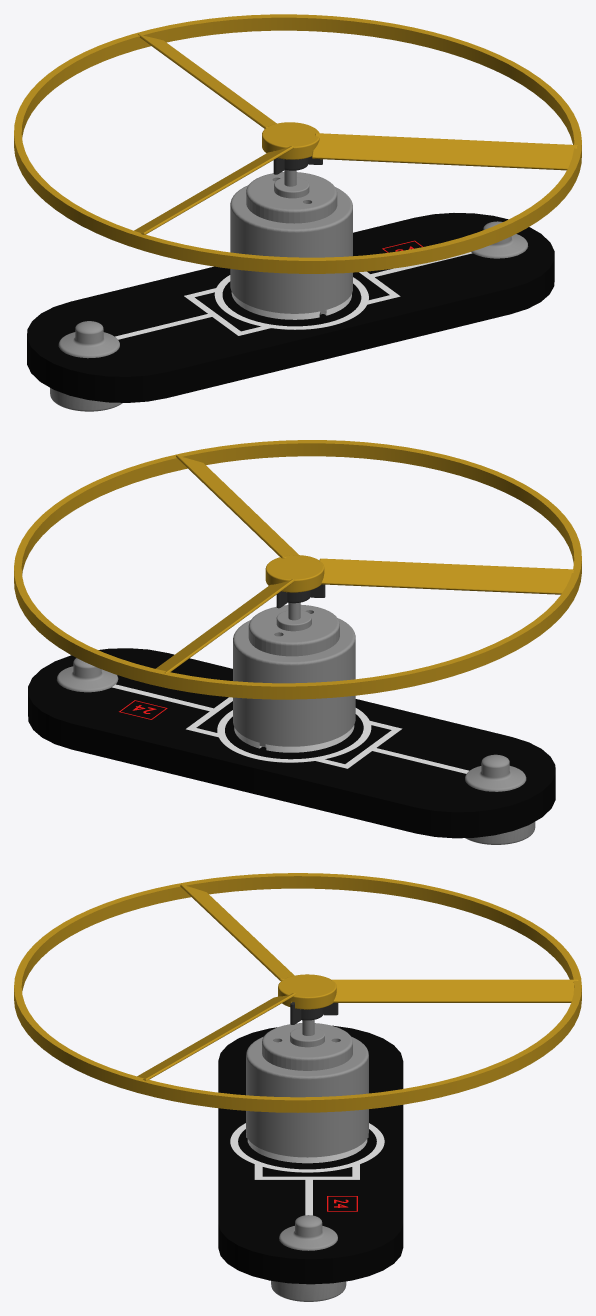
File: Fan.FBX
3 renders of one model, top to bottom at view 1: azimuth 30°, elevation 25°; view 2: azimuth 150°, elevation 25°; view 3: azimuth 270°, elevation 25°, orthographic. The views are drawn at different scales.
Visible parts, largest first — view 1: Rectangle051, Circle375, Circle370, Rectangle057, Fan, Circle368, Rectangle055, Circle374, Rectangle056, Circle376; view 2: Rectangle051, Circle375, Circle370, Rectangle056, Fan, Circle368, Rectangle057, Rectangle055, Circle374, Circle376; view 3: Rectangle051, Circle375, Circle370, Rectangle055, Fan, Circle368, Rectangle056, Circle374, Rectangle057, Circle376.
Part boxes in pixels (left/top/right/bottom): Rectangle051: left=27, top=213, right=554, bottom=402; Circle375: left=14, top=14, right=581, bottom=273; Circle370: left=230, top=172, right=352, bottom=313; Rectangle057: left=312, top=133, right=577, bottom=170; Fan: left=50, top=221, right=528, bottom=411; Circle368: left=115, top=252, right=472, bottom=339; Rectangle055: left=138, top=33, right=276, bottom=128; Circle374: left=262, top=122, right=319, bottom=159; Rectangle056: left=134, top=146, right=293, bottom=234; Circle376: left=231, top=292, right=351, bottom=319; Rectangle051: left=28, top=648, right=555, bottom=838; Circle375: left=14, top=440, right=581, bottom=699; Circle370: left=233, top=604, right=355, bottom=746; Rectangle056: left=319, top=558, right=573, bottom=594; Fan: left=57, top=658, right=535, bottom=844; Circle368: left=111, top=684, right=468, bottom=773; Rectangle057: left=176, top=455, right=298, bottom=558; Rectangle055: left=155, top=579, right=294, bottom=673; Circle374: left=265, top=555, right=324, bottom=592; Circle376: left=234, top=725, right=354, bottom=752; Rectangle051: left=218, top=1025, right=403, bottom=1284; Circle375: left=14, top=873, right=581, bottom=1112; Circle370: left=246, top=1023, right=368, bottom=1157; Rectangle055: left=331, top=979, right=578, bottom=1002; Fan: left=271, top=1215, right=346, bottom=1301; Circle368: left=230, top=1123, right=384, bottom=1215; Rectangle056: left=180, top=884, right=294, bottom=980; Circle374: left=278, top=974, right=336, bottom=1009; Rectangle057: left=137, top=993, right=295, bottom=1080; Circle376: left=247, top=1139, right=367, bottom=1163.
Size of the model in its own units: 97.79 by 39.97 by 100.
